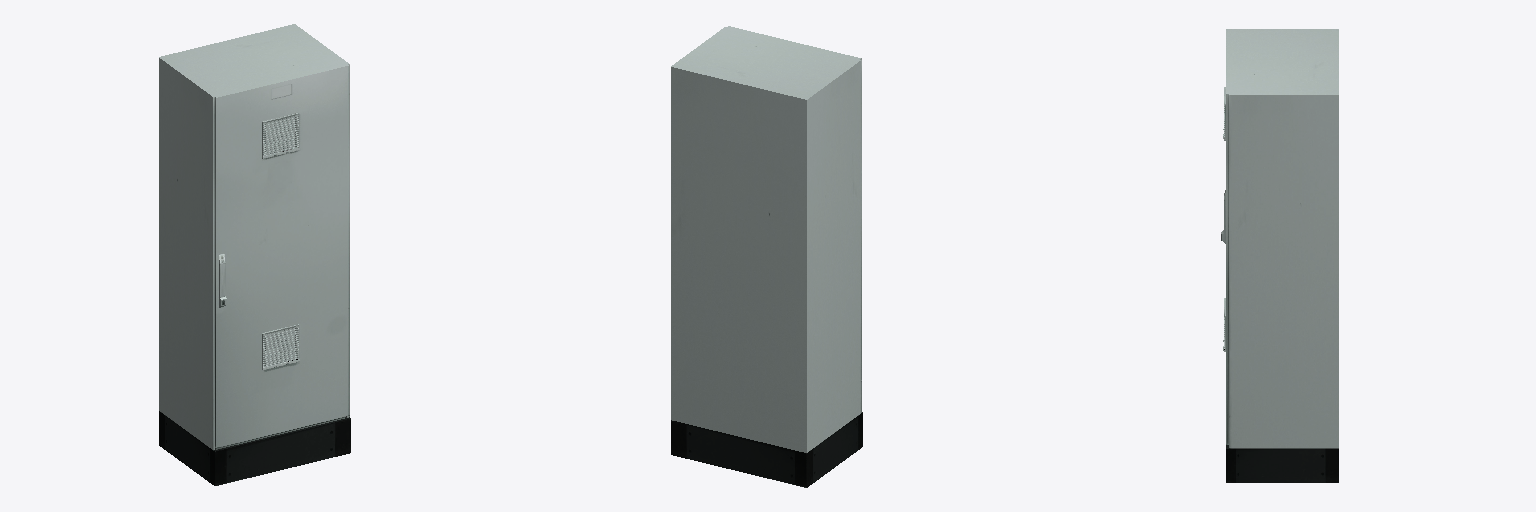
3 renders of one model, left to right at view 1: azimuth 30°, elevation 25°; view 2: azimuth 150°, elevation 25°; view 3: azimuth 270°, elevation 25°, orthographic.
Parts seen in each view (by area): view 1: set6_Model; view 2: set6_Model; view 3: set6_Model.
Boxes of the visible parts, <box> form: set6_Model: <box>159,24,350,485</box>; set6_Model: <box>671,26,862,487</box>; set6_Model: <box>1221,29,1338,482</box>.
Size of the model in its own units: 0.7348 by 2 by 0.5468.
Materials: 1 (1 with a texture image).